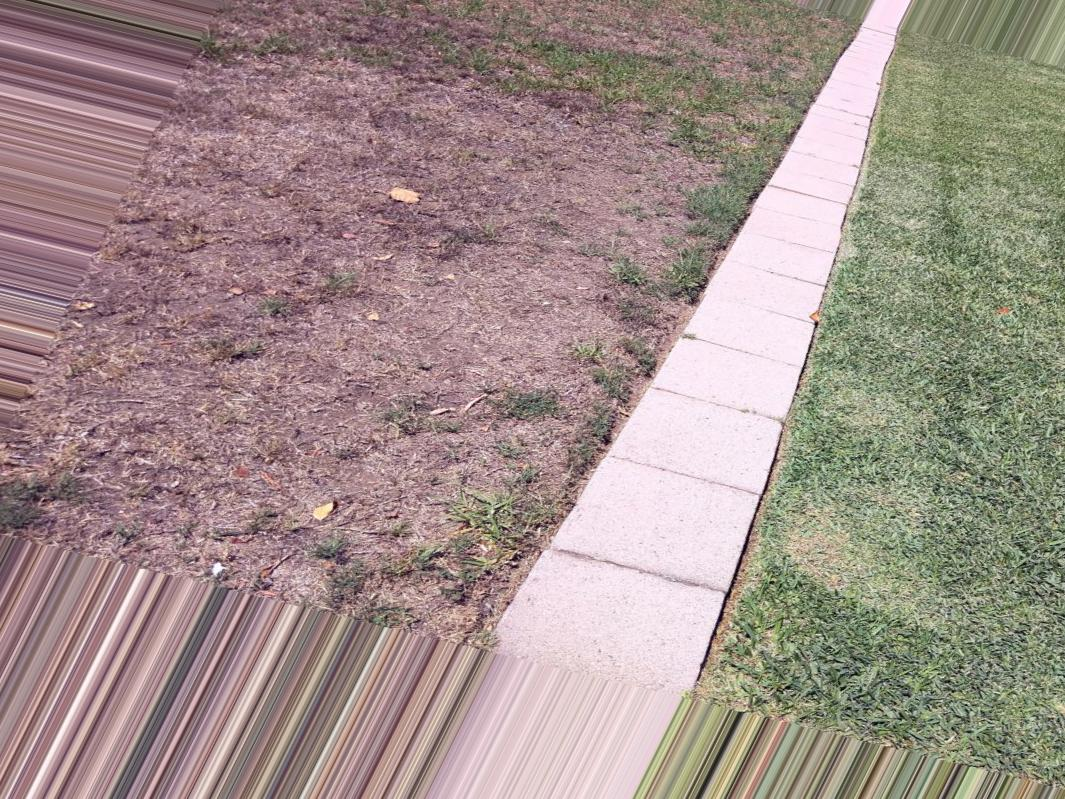patch: (88, 325, 279, 491), (491, 104, 647, 283), (256, 37, 440, 151), (293, 347, 425, 495), (305, 172, 451, 303), (155, 159, 277, 295), (447, 315, 556, 462), (205, 507, 372, 570), (625, 11, 773, 80), (395, 514, 493, 585), (657, 133, 708, 257), (575, 311, 624, 411), (16, 418, 76, 493), (453, 82, 486, 151)
